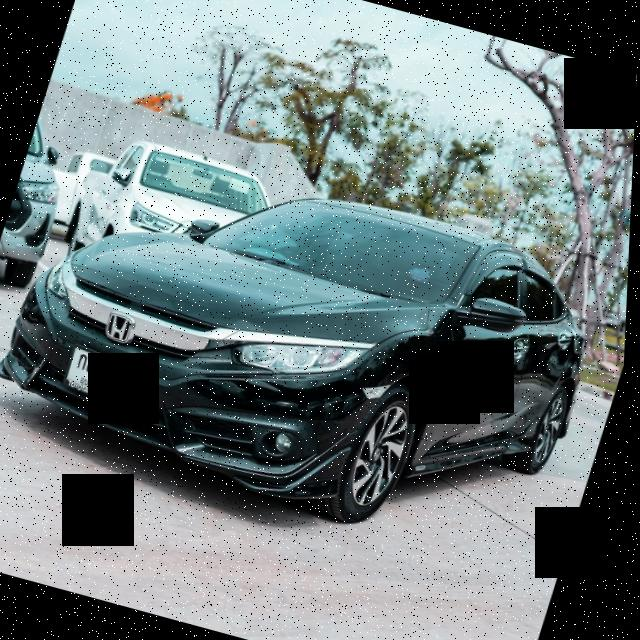text: (71, 348, 139, 402)
